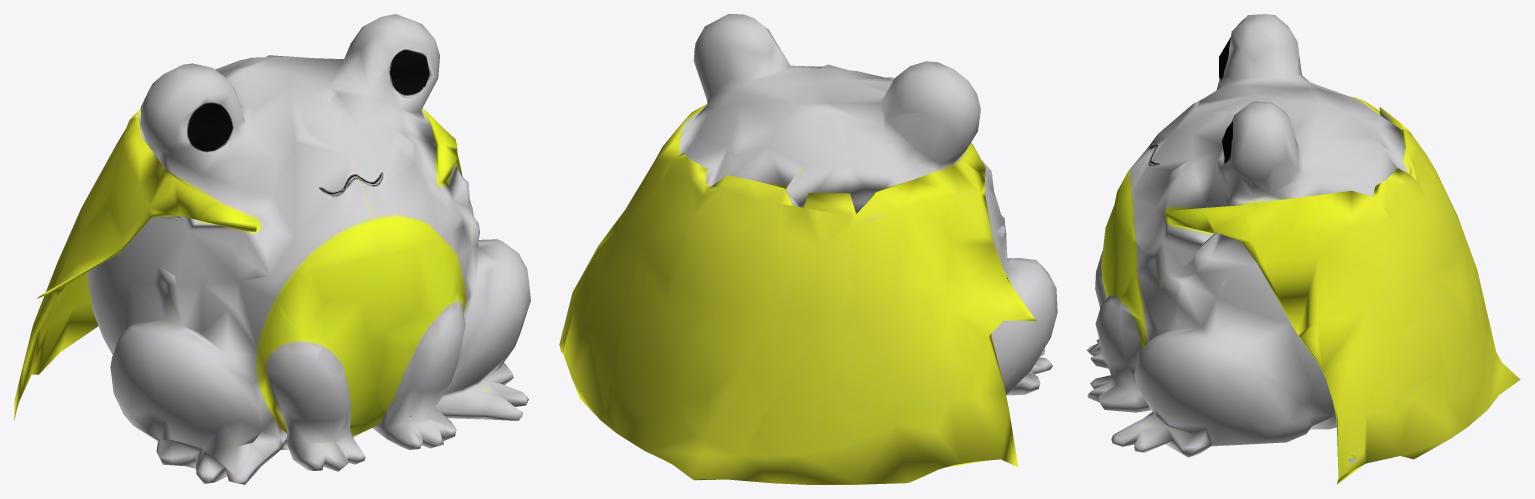
Rendered from eclair.glb.
3 views of the same model, side by side, from view 1: azimuth 30°, elevation 25°; view 2: azimuth 150°, elevation 25°; view 3: azimuth 270°, elevation 25° (orthographic). The views are drawn at different scales.
Visible parts, largest first — view 1: mesh_node; view 2: mesh_node; view 3: mesh_node.
Part boxes in pixels (bbox=[...]): mesh_node: bbox=[14, 14, 530, 484]; mesh_node: bbox=[559, 14, 1057, 484]; mesh_node: bbox=[1086, 14, 1520, 484].
Bounding box in the file's own units: 1.89 × 1.33 × 1.65.
1 material, 1 textured.
